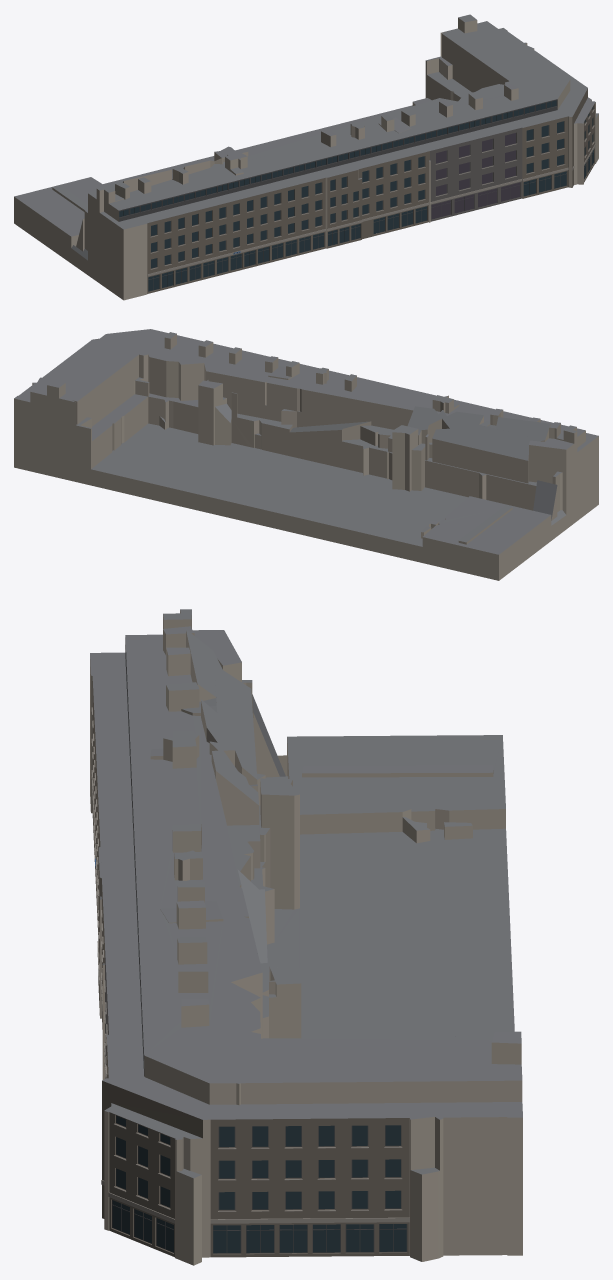
Rendered from recipe-large-nieuwpoortstraat-126319.glb.
3 views of the same model, one above another, from view 1: azimuth 30°, elevation 25°; view 2: azimuth 150°, elevation 25°; view 3: azimuth 270°, elevation 25° (orthographic). The views are drawn at different scales.
Visible parts, largest first — view 1: nieuwpoortstraat-126319; view 2: nieuwpoortstraat-126319; view 3: nieuwpoortstraat-126319.
Part boxes in pixels (bbox=[...]): nieuwpoortstraat-126319: bbox=[14, 14, 598, 300]; nieuwpoortstraat-126319: bbox=[14, 329, 598, 580]; nieuwpoortstraat-126319: bbox=[90, 609, 522, 1265].
Bounding box in the file's own units: 123 × 22.09 × 46.88.
